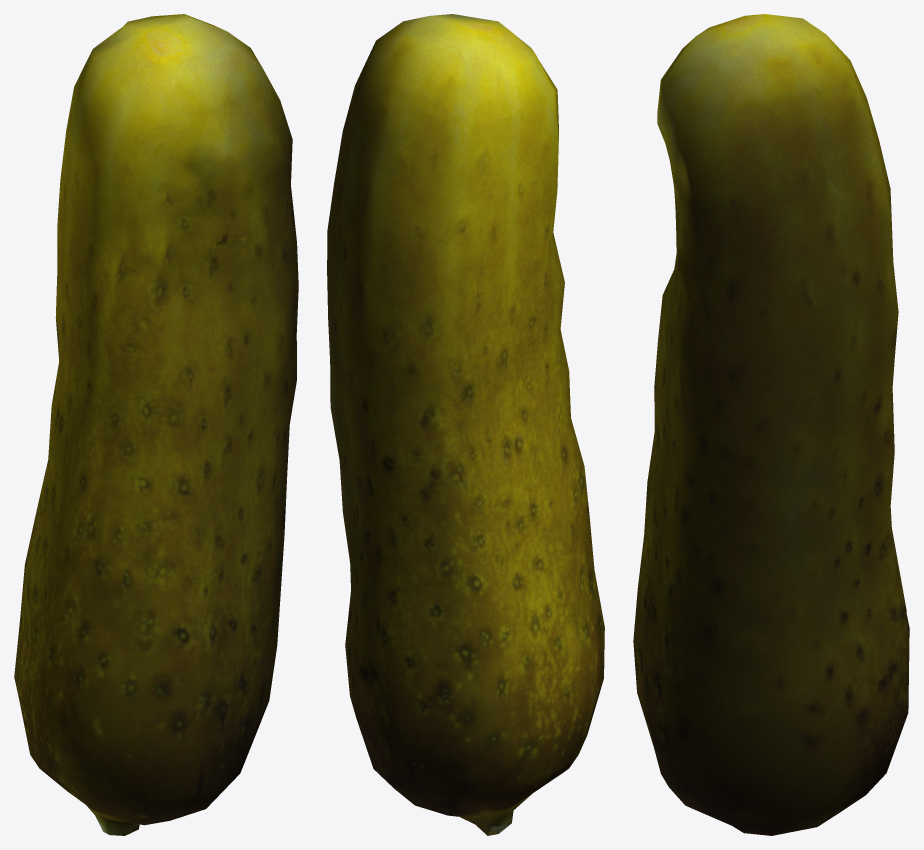
Rendered from pickle.fbx.
3 views of the same model, side by side, from view 1: azimuth 30°, elevation 25°; view 2: azimuth 150°, elevation 25°; view 3: azimuth 270°, elevation 25° (orthographic). The views are drawn at different scales.
Visible parts, largest first — view 1: Box001.001; view 2: Box001.001; view 3: Box001.001.
Part boxes in pixels (x1,y1,x2,y2): Box001.001: [14, 14, 298, 835]; Box001.001: [327, 14, 604, 835]; Box001.001: [633, 14, 909, 835].
Size of the model in its own units: 1.23 by 1.33 by 4.08.
